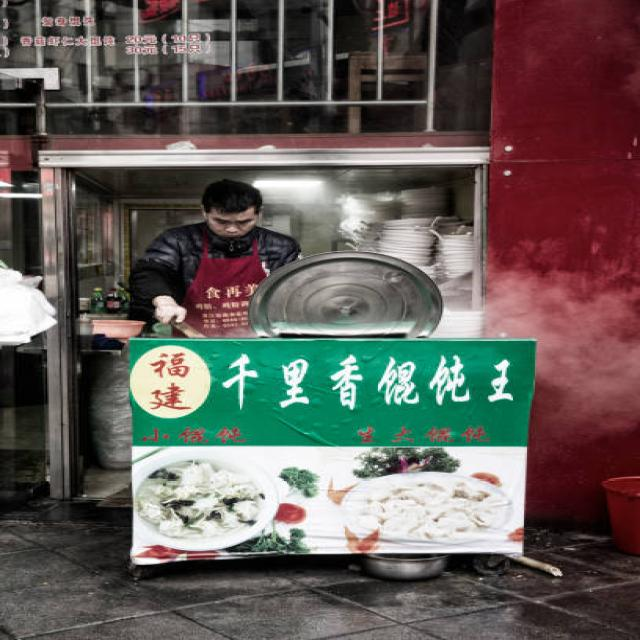Emperan: (40, 244, 632, 620)
